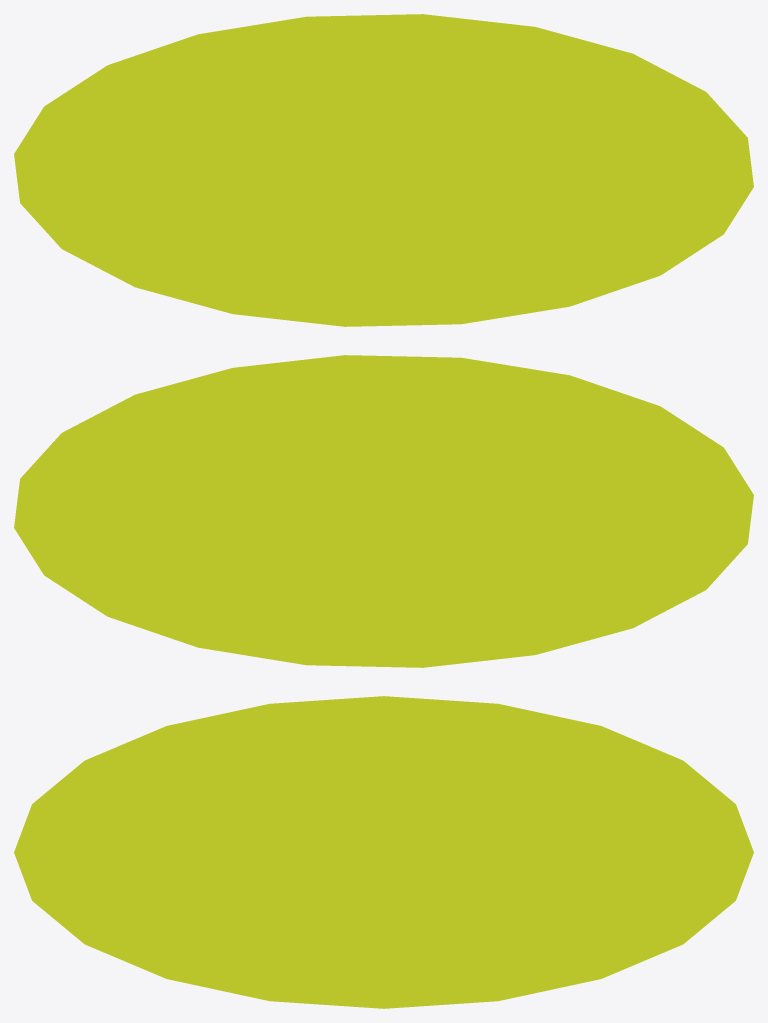
File: Light.FBX
3 renders of one model, top to bottom at view 1: azimuth 30°, elevation 25°; view 2: azimuth 150°, elevation 25°; view 3: azimuth 270°, elevation 25°, orthographic.
Parts seen in each view (by area): view 1: Lights_LP; view 2: Lights_LP; view 3: Lights_LP.
Part boxes in pixels (<box>): Lights_LP: <box>14,14,753,326</box>; Lights_LP: <box>14,355,753,667</box>; Lights_LP: <box>14,696,753,1008</box>.
Bounding box in the file's own units: 44.38 × 2.72e-15 × 44.38.
